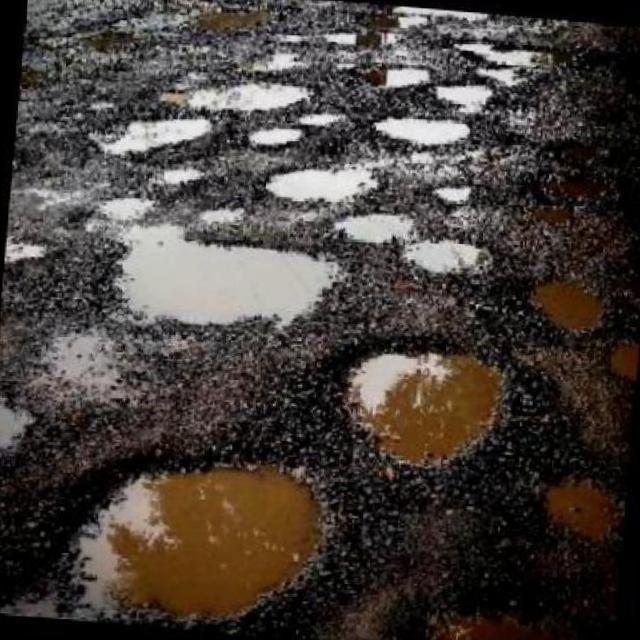Pothole: (64, 463, 322, 625), (71, 198, 336, 326), (342, 349, 508, 465), (334, 213, 478, 273), (546, 478, 623, 544), (265, 164, 384, 206), (427, 609, 588, 640), (162, 83, 315, 113), (97, 119, 213, 158), (533, 278, 605, 335), (445, 41, 534, 85), (374, 118, 469, 146), (360, 63, 435, 89), (435, 85, 493, 115), (248, 125, 306, 150), (610, 339, 640, 386), (0, 397, 23, 450), (197, 206, 245, 231), (155, 167, 204, 187), (7, 242, 47, 265), (433, 184, 472, 204), (299, 112, 345, 126)
